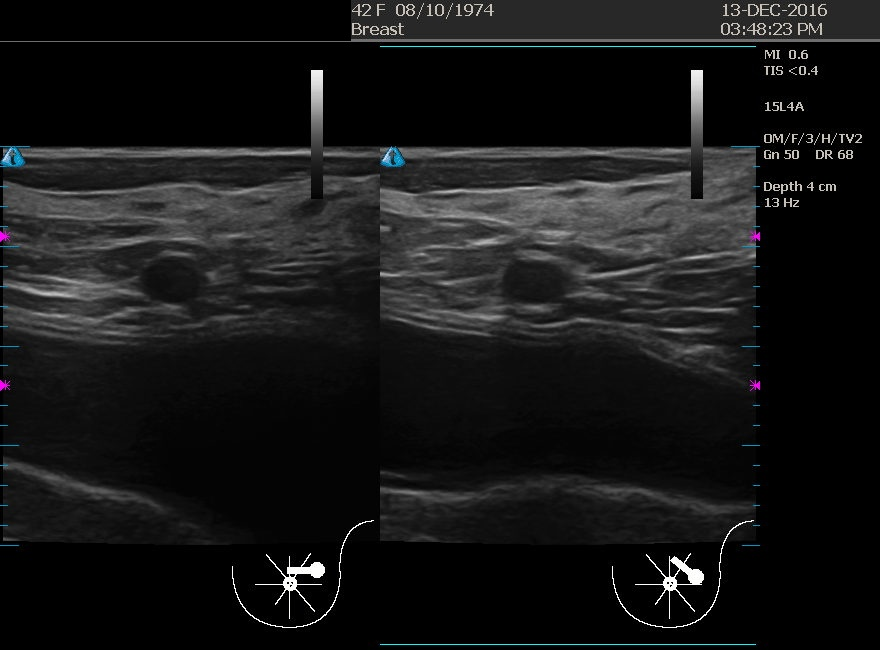BIRADS_2: (69, 187, 269, 387), (438, 198, 638, 398)
